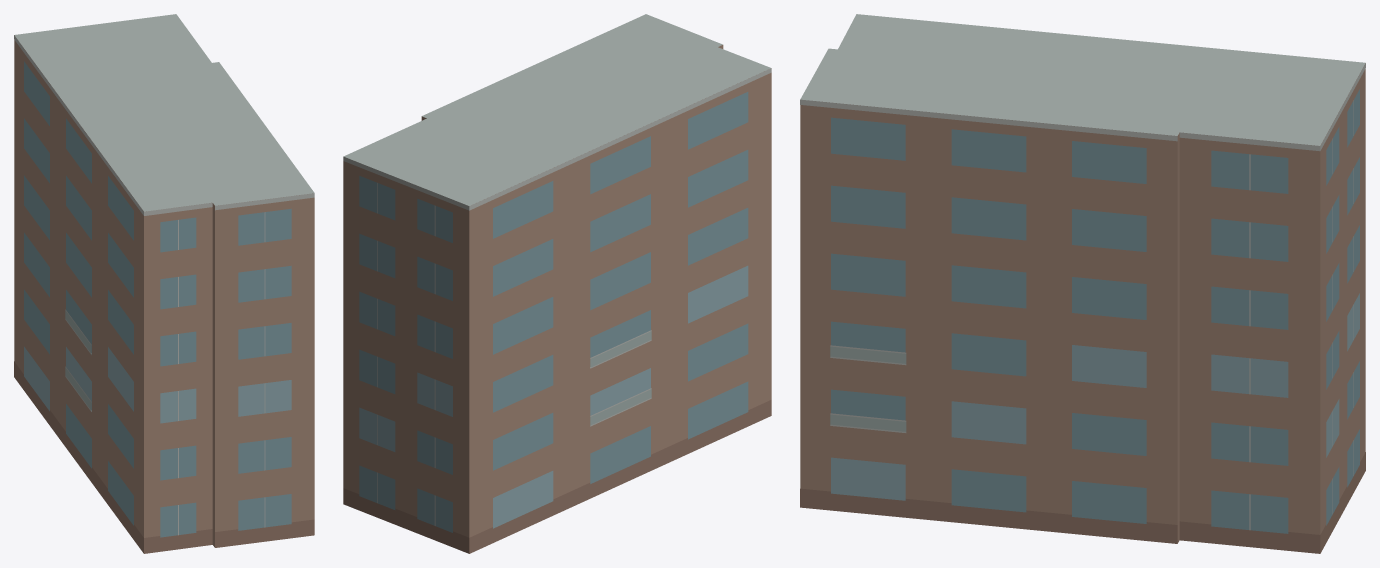
Rendered from survey-upis-32936323.glb.
The picture shows the model from 3 angles, left to right: view 1: azimuth 30°, elevation 25°; view 2: azimuth 150°, elevation 25°; view 3: azimuth 270°, elevation 25°; orthographic projection. The views are drawn at different scales.
Parts seen in each view (by area): view 1: survey-upis-32936323.tmp; view 2: survey-upis-32936323.tmp; view 3: survey-upis-32936323.tmp.
Part boxes in pixels (x1=…): survey-upis-32936323.tmp: x1=14, y1=14, x2=314, y2=553; survey-upis-32936323.tmp: x1=343, y1=14, x2=771, y2=553; survey-upis-32936323.tmp: x1=800, y1=14, x2=1365, y2=553.
Size of the model in its own units: 13.12 by 18.9 by 23.76.
